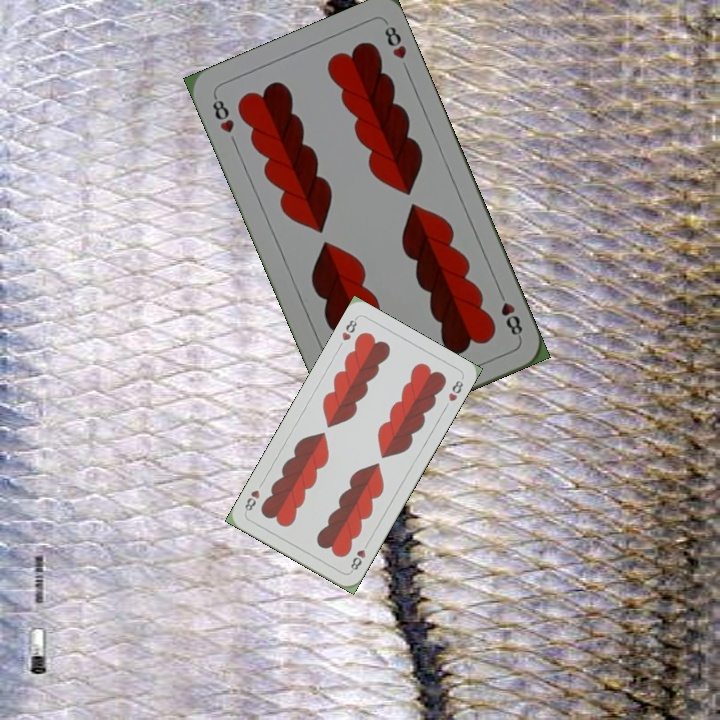H8: (494, 286, 525, 341), (208, 91, 237, 136), (346, 537, 372, 575), (338, 313, 360, 343)
